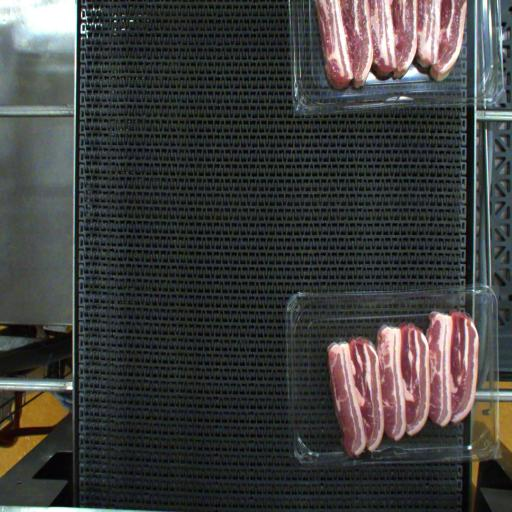packaging-error: (335, 434, 402, 469)
